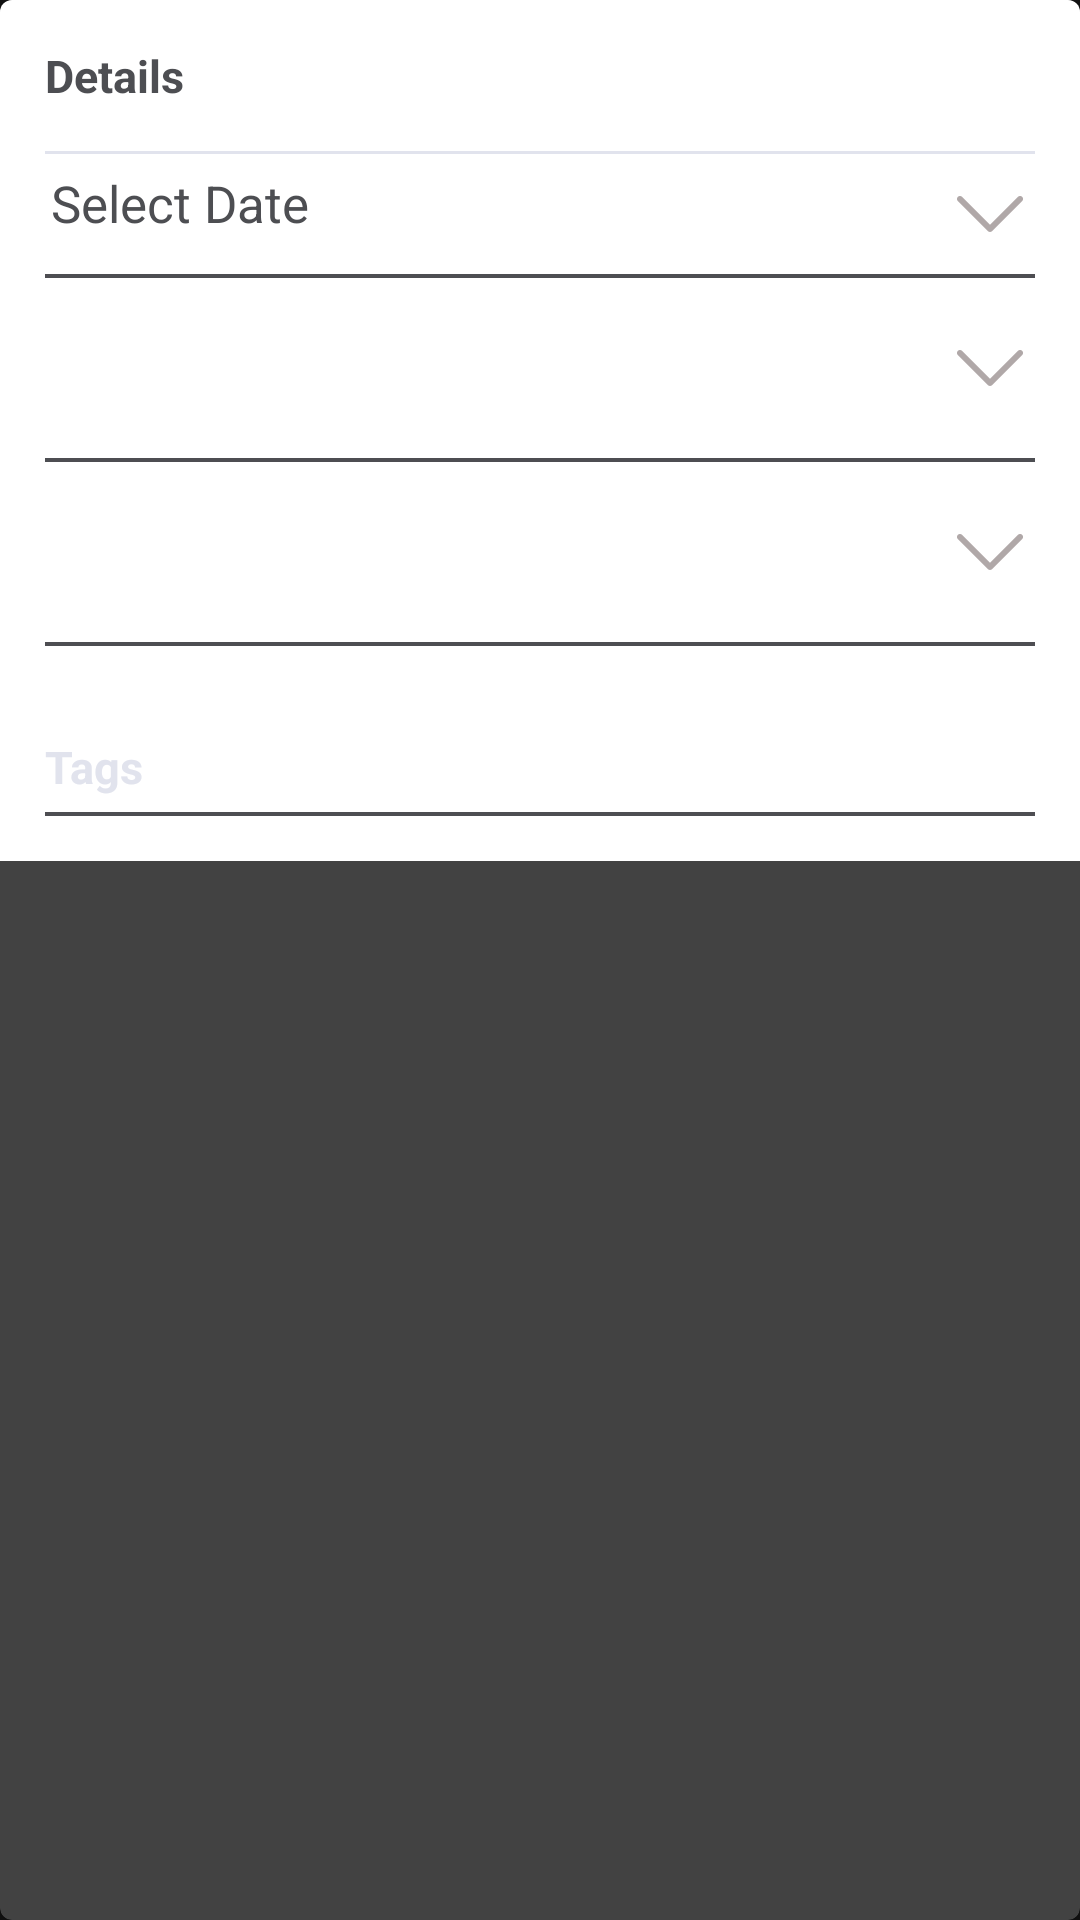

Locate icon controls on the screen. Image size 1080px x 1920px, boxes as (x1, y1, x2, y2).
chev down: (957, 196, 1023, 232), (957, 350, 1023, 386), (957, 534, 1023, 570)
